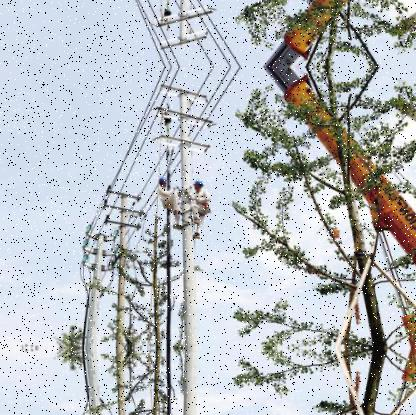helmet: (158, 174, 171, 189), (195, 176, 207, 190)
